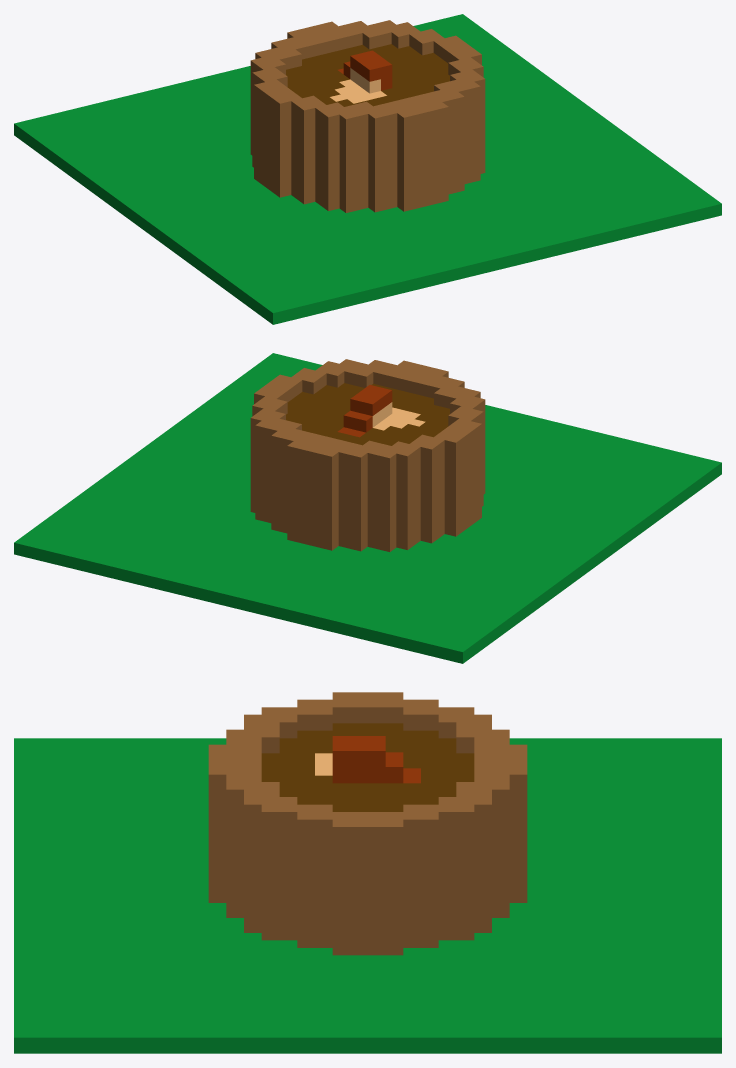
The model's file is Planta 1.glb.
3 views of the same model, one above another, from view 1: azimuth 30°, elevation 25°; view 2: azimuth 150°, elevation 25°; view 3: azimuth 270°, elevation 25° (orthographic). The views are drawn at different scales.
Parts seen in each view (by area): view 1: _0; view 2: _0; view 3: _0.
Boxes of the visible parts, left/top/right/bottom form: _0: left=14, top=14, right=721, bottom=324; _0: left=14, top=353, right=721, bottom=663; _0: left=14, top=692, right=721, bottom=1053.
Bounding box in the file's own units: 40 × 10 × 40.
